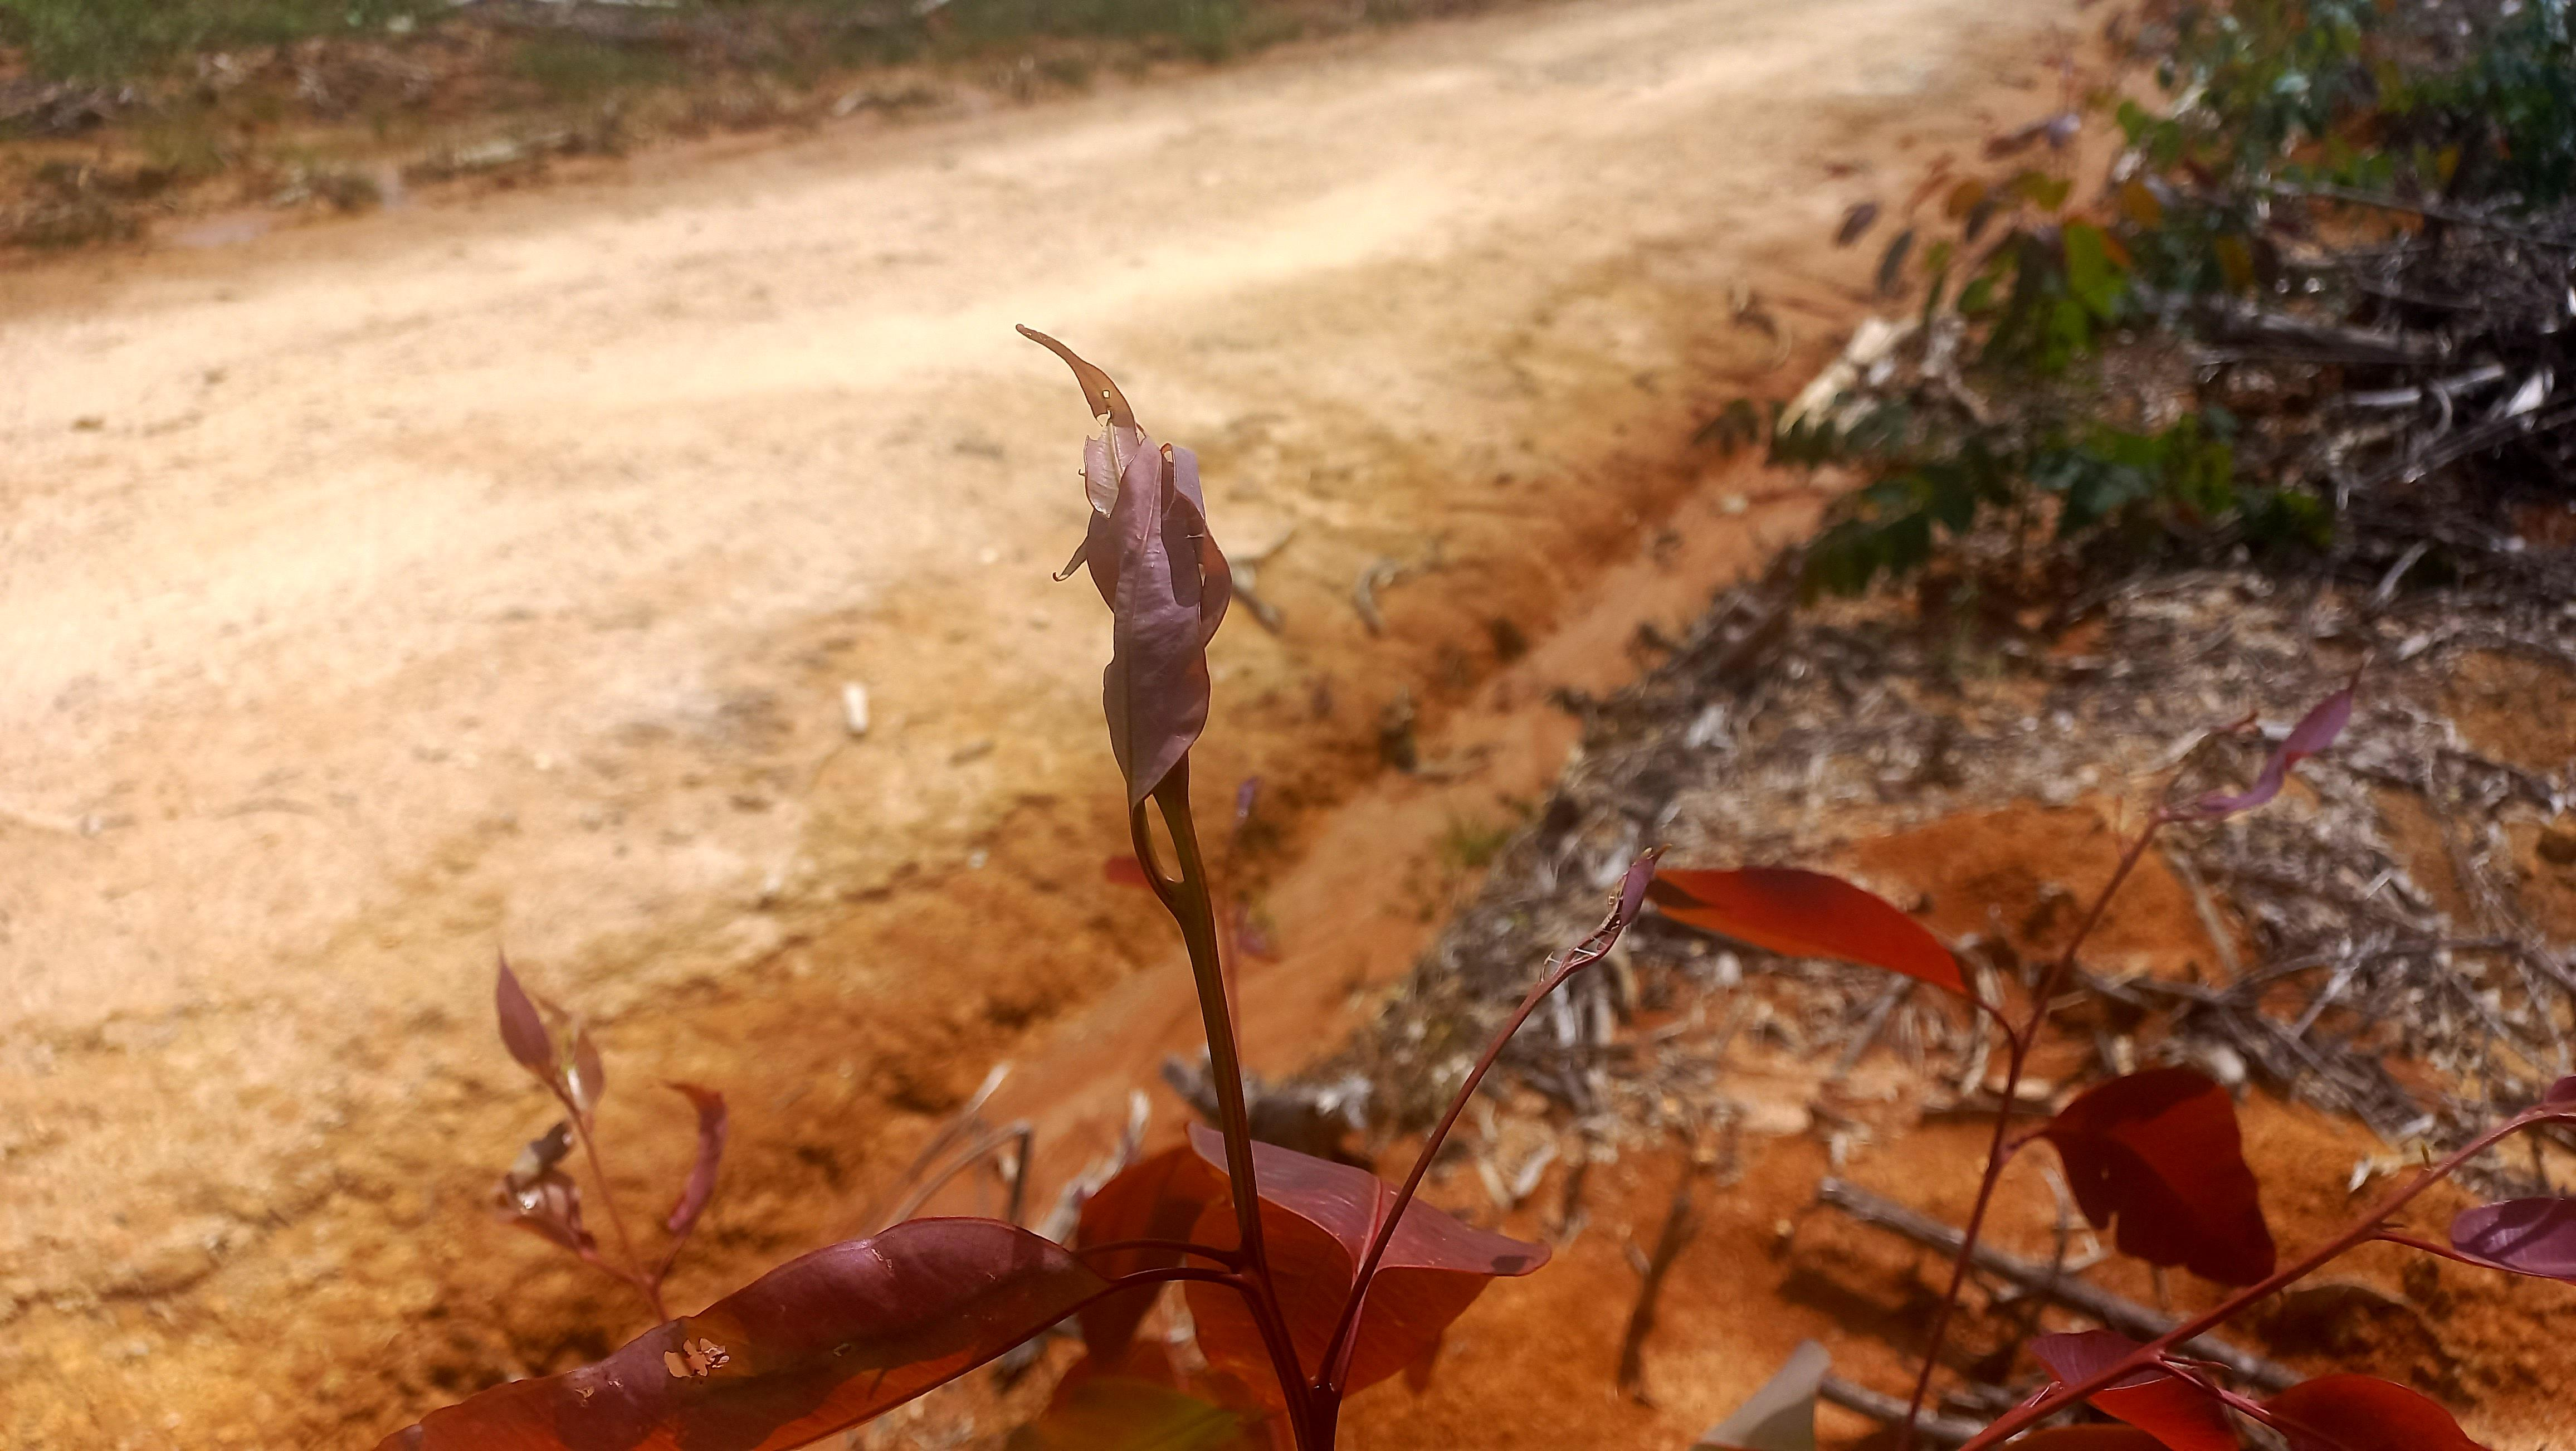Leaf Roller - Leaf: (1047, 327, 1265, 810), (1023, 315, 1228, 653), (1541, 833, 1668, 986), (660, 1060, 732, 1246), (502, 1178, 605, 1281)
